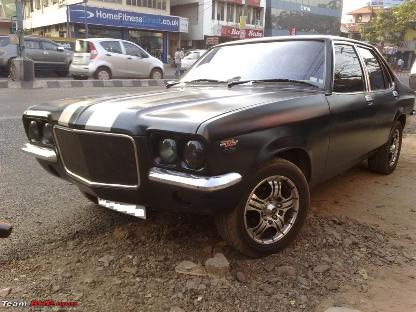car: (23, 31, 416, 257), (67, 24, 167, 84), (0, 27, 76, 83)
